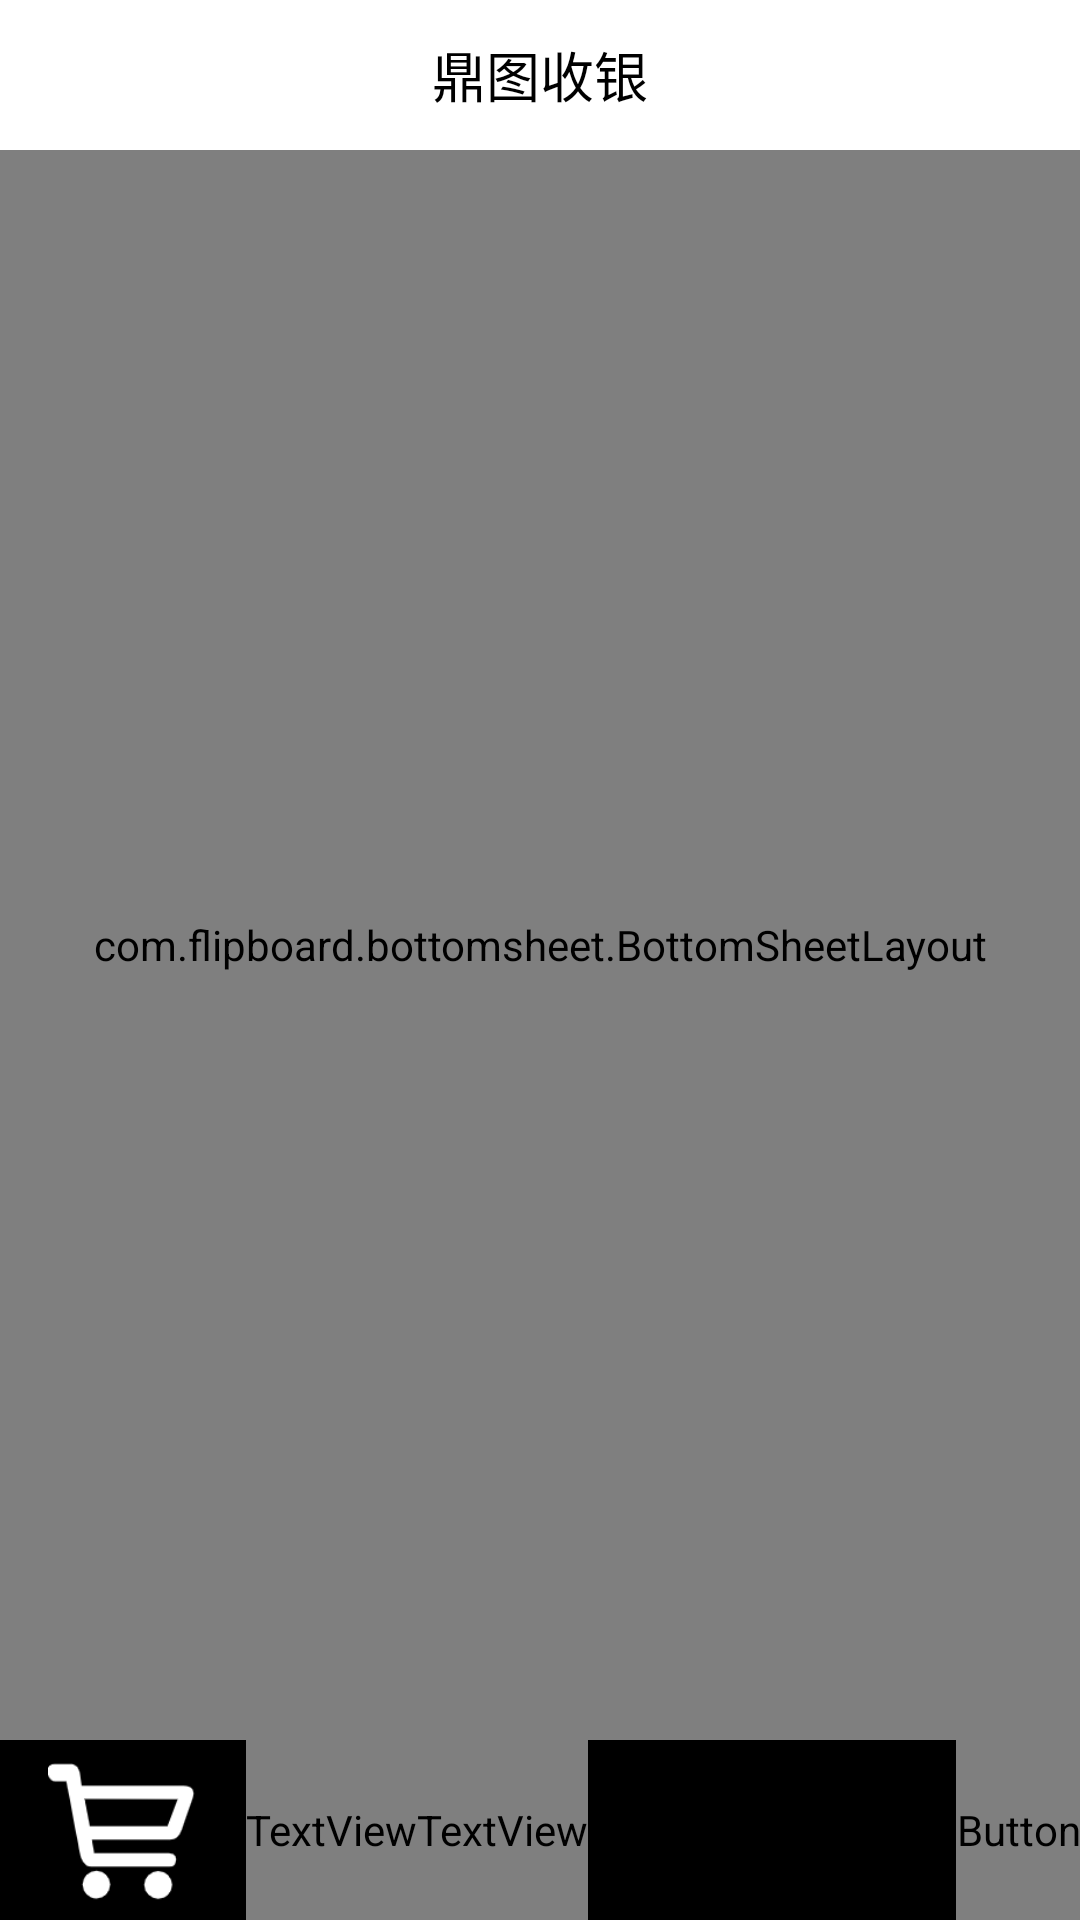

Point at icon controls on the screen. Image size 1080px x 1920px, points as [x,y].
gowuche: [121,1831]
